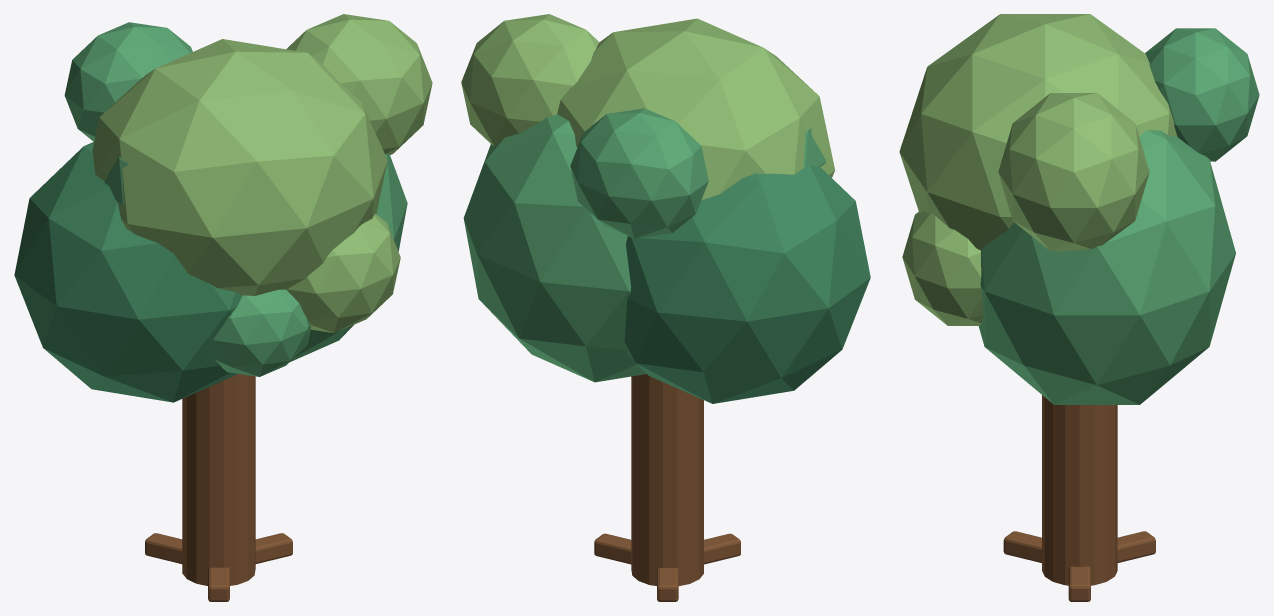
The model's file is NAT_TREE_OAK_1x1_002.glb.
3 renders of one model, left to right at view 1: azimuth 30°, elevation 25°; view 2: azimuth 150°, elevation 25°; view 3: azimuth 270°, elevation 25°, orthographic. The views are drawn at different scales.
Visible parts, largest first — view 1: NAT_TREE_OAK_1x1_002_Visual; view 2: NAT_TREE_OAK_1x1_002_Visual; view 3: NAT_TREE_OAK_1x1_002_Visual.
Part boxes in pixels (x1=…): NAT_TREE_OAK_1x1_002_Visual: x1=14, y1=14, x2=432, y2=601; NAT_TREE_OAK_1x1_002_Visual: x1=461, y1=14, x2=870, y2=601; NAT_TREE_OAK_1x1_002_Visual: x1=899, y1=14, x2=1259, y2=601.
Size of what is drawn, in the model's own units: 1.32 by 1.75 by 1.05.
